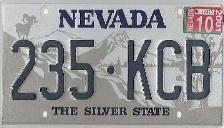2: (9, 38, 40, 102)
3: (38, 38, 67, 101)
5: (68, 38, 98, 102)
B: (183, 38, 213, 101)
C: (155, 38, 185, 102)
K: (123, 38, 155, 102)
